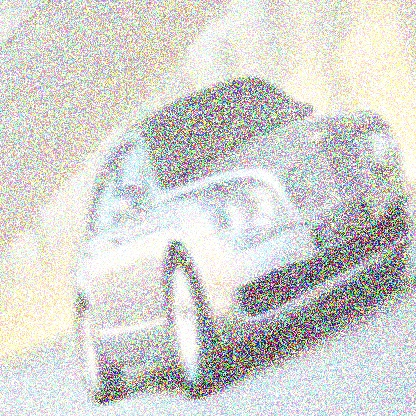Vehicle: (69, 74, 411, 407)
